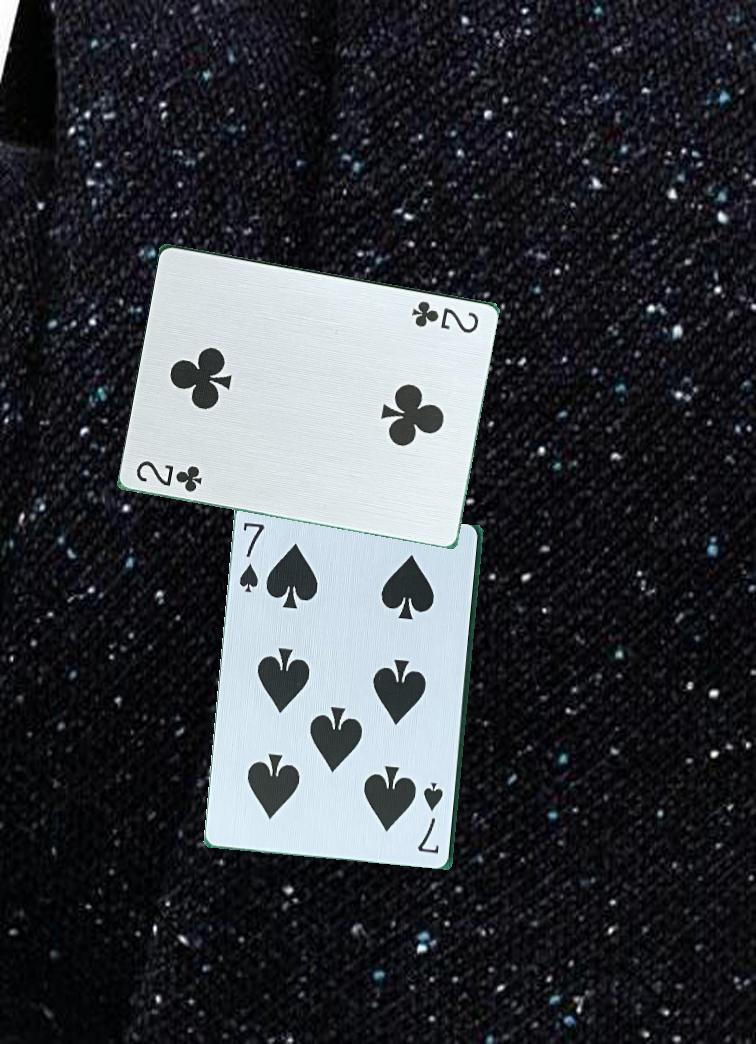2c: (409, 296, 483, 336), (133, 456, 206, 495)
7s: (235, 518, 267, 595), (415, 778, 446, 856)
